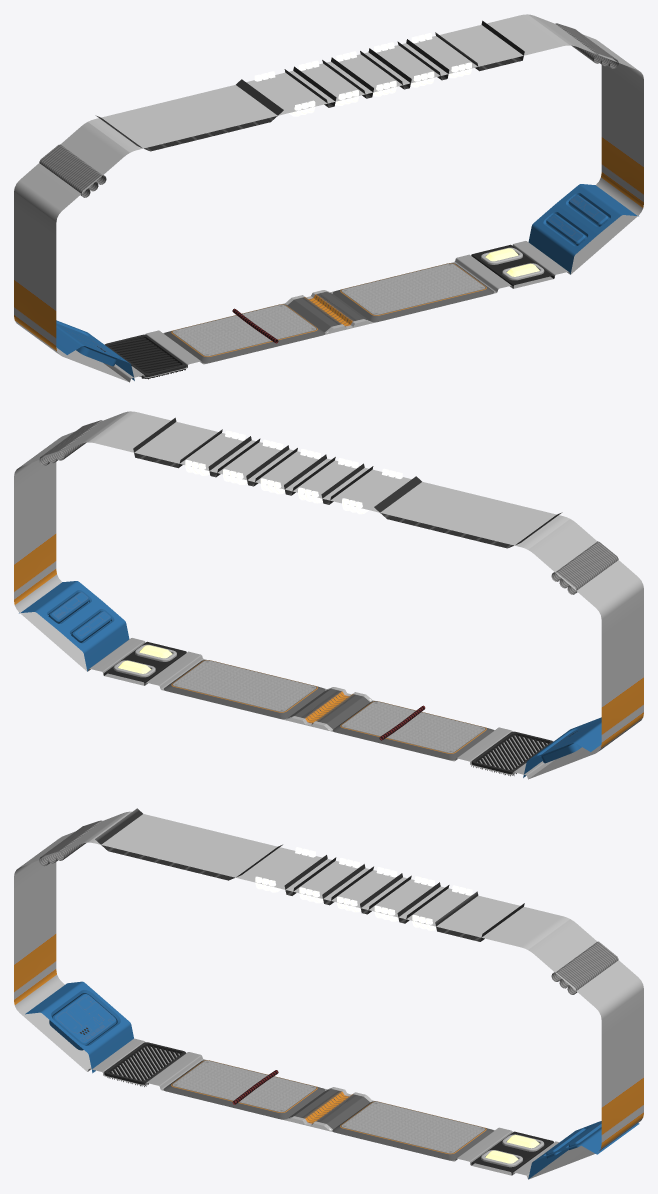
File: MOD_1a.fbx
3 views of the same model, one above another, from view 1: azimuth 30°, elevation 25°; view 2: azimuth 150°, elevation 25°; view 3: azimuth 330°, elevation 25° (orthographic).
Parts seen in each view (by area): view 1: MOD_1a; view 2: MOD_1a; view 3: MOD_1a.
Part boxes in pixels (x1,y1,x2,y2): MOD_1a: [14, 14, 643, 382]; MOD_1a: [14, 411, 643, 779]; MOD_1a: [14, 808, 643, 1179].
Bounding box in the file's own units: 8 × 3.09 × 1.02.
Materials: 3 (1 with a texture image).
